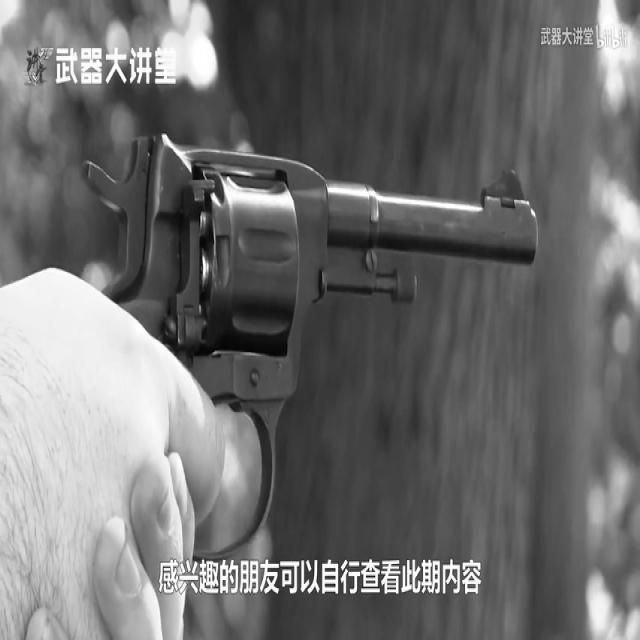Short-Gun: (67, 84, 562, 640)
